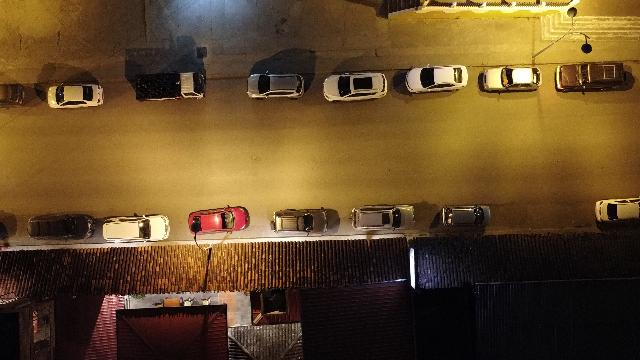Vehiculo: (554, 62, 626, 92), (189, 206, 250, 239), (271, 207, 340, 235), (323, 72, 387, 102), (102, 215, 169, 243), (406, 65, 468, 93), (28, 214, 95, 239), (351, 205, 414, 230), (482, 66, 542, 92), (246, 73, 304, 99), (595, 198, 640, 228), (47, 84, 103, 108), (440, 205, 490, 228), (0, 84, 24, 106)
